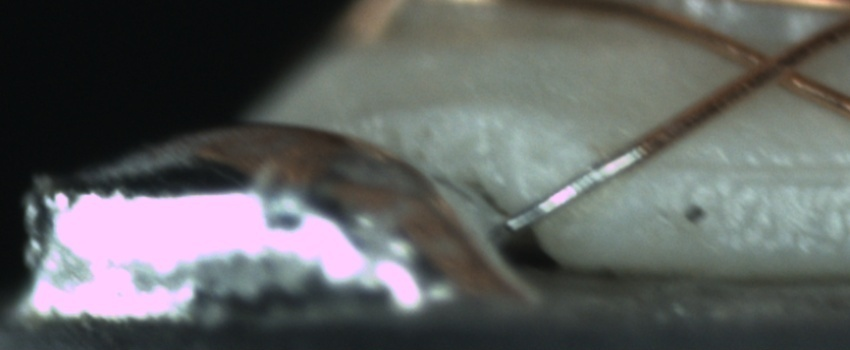CL: (737, 35, 817, 93)
DL: (648, 141, 849, 199)
TS: (510, 142, 647, 231)
